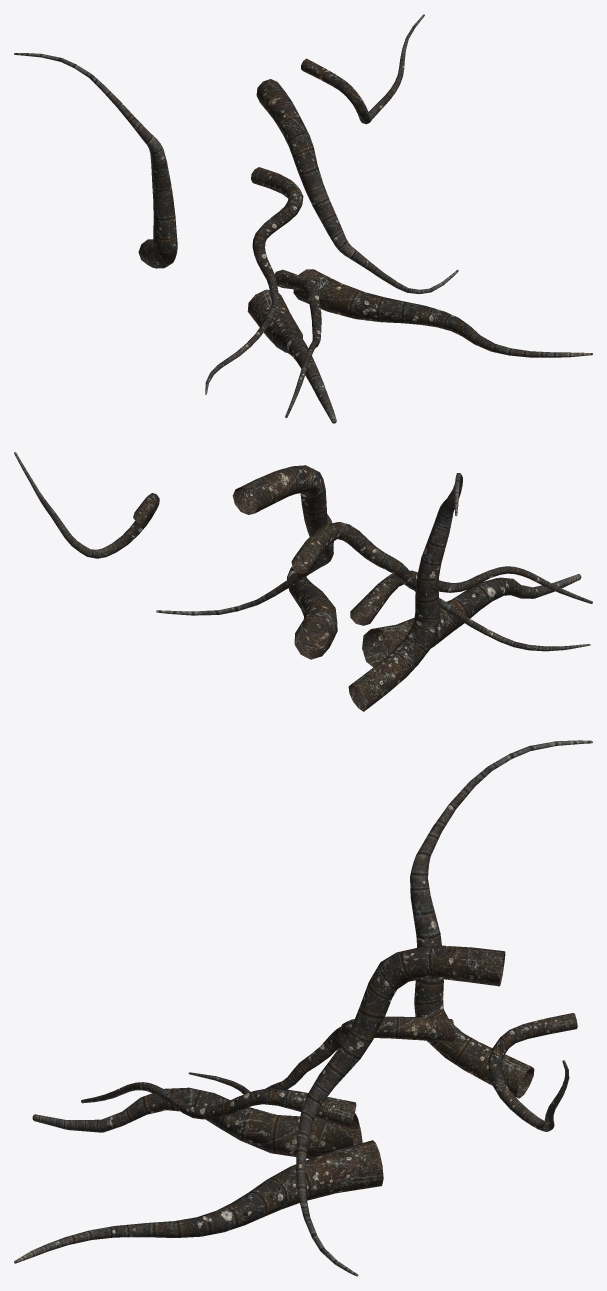
Rendered from wall_detail_organic01_tentacles.dae.
The picture shows the model from 3 angles, top to bottom: view 1: azimuth 30°, elevation 25°; view 2: azimuth 150°, elevation 25°; view 3: azimuth 270°, elevation 25°; orthographic projection. The views are drawn at different scales.
Parts seen in each view (by area): view 1: polySurface3; view 2: polySurface3; view 3: polySurface3.
Part boxes in pixels (<box>): polySurface3: <box>14,14,592,423</box>; polySurface3: <box>14,452,592,711</box>; polySurface3: <box>14,740,592,1276</box>.
Bounding box in the file's own units: 4.69 × 2.81 × 4.51.
